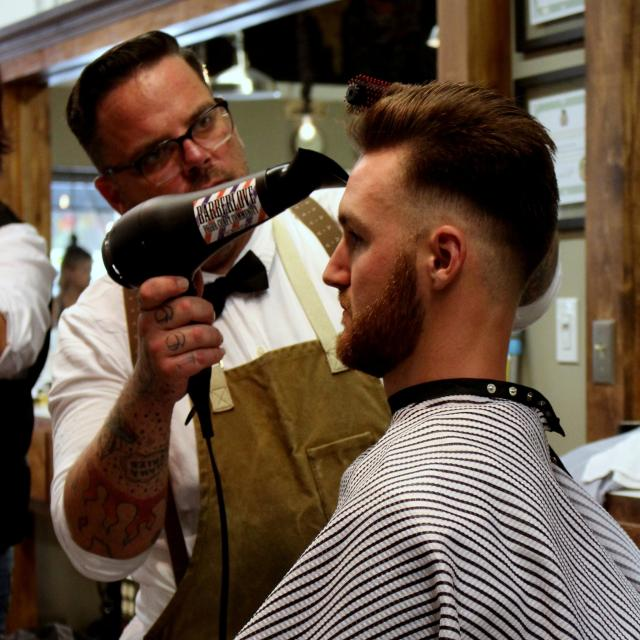dryer: (103, 144, 350, 436)
